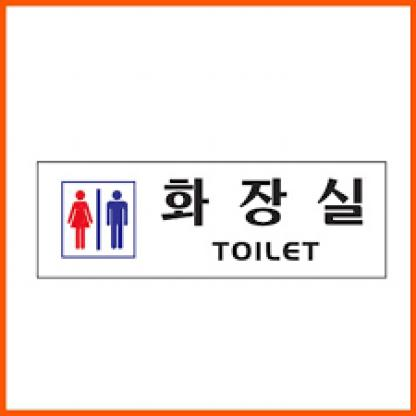toilet: (66, 187, 130, 251)
